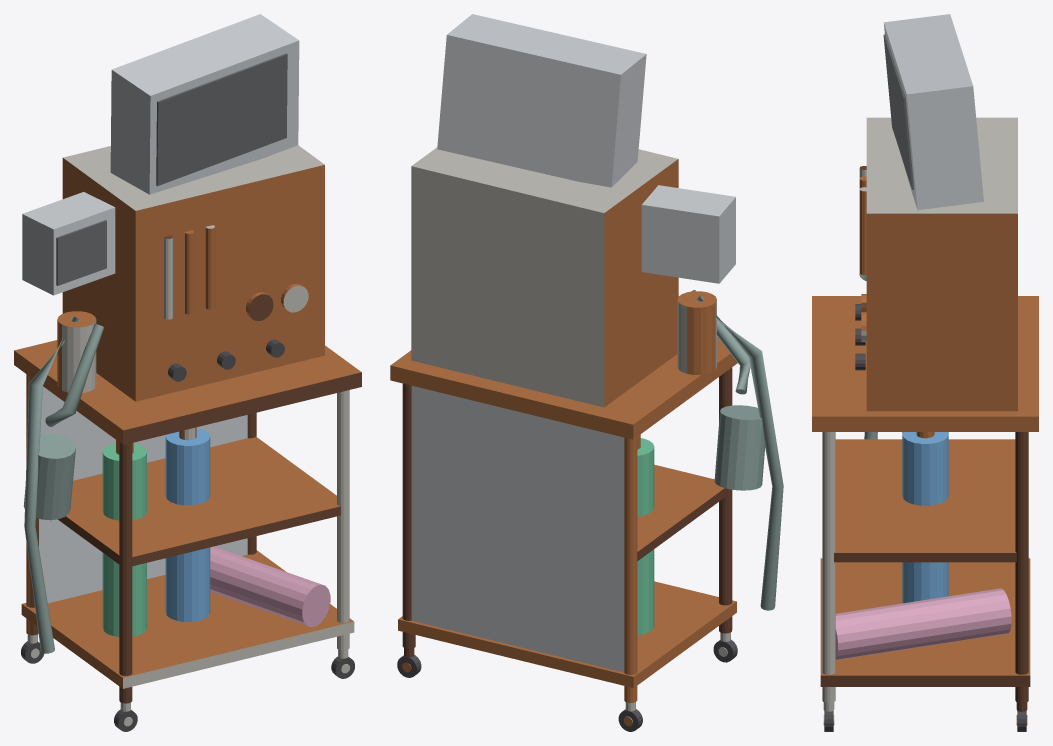
Rendered from operatingRoom_monitor_v2.fbx.
3 renders of one model, left to right at view 1: azimuth 30°, elevation 25°; view 2: azimuth 150°, elevation 25°; view 3: azimuth 270°, elevation 25°, orthographic. The views are drawn at different scales.
Visible parts, largest first — view 1: 06_AnesthesiaMach_Damaged_Mesh; view 2: 06_AnesthesiaMach_Damaged_Mesh; view 3: 06_AnesthesiaMach_Damaged_Mesh.
Part boxes in pixels (x1=…): 06_AnesthesiaMach_Damaged_Mesh: x1=14, y1=14, x2=361, y2=731; 06_AnesthesiaMach_Damaged_Mesh: x1=390, y1=14, x2=783, y2=731; 06_AnesthesiaMach_Damaged_Mesh: x1=812, y1=14, x2=1038, y2=731.
Size of the model in its own units: 87.38 by 168 by 54.
